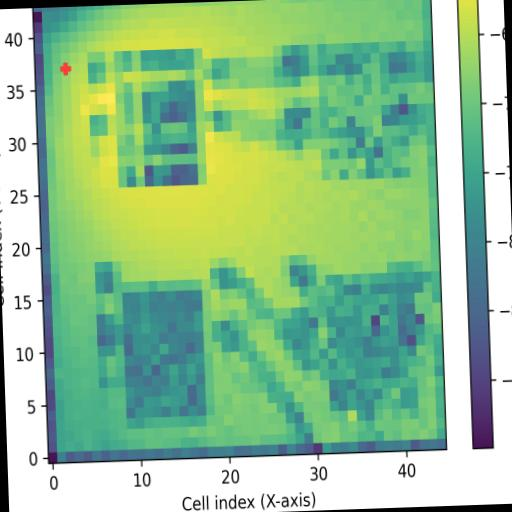Concrete: (318, 42, 410, 180)
Glass: (114, 48, 207, 184)
Metal: (326, 272, 420, 421)
Wood: (122, 290, 207, 417)
